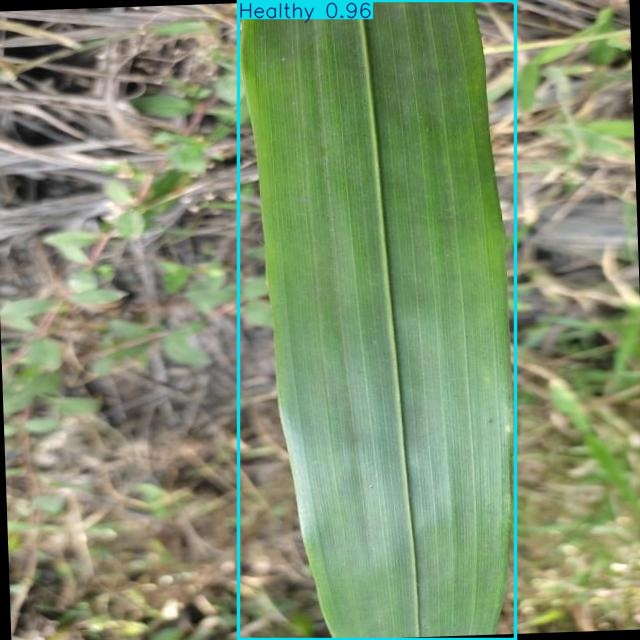Healthy: (238, 0, 516, 639)
